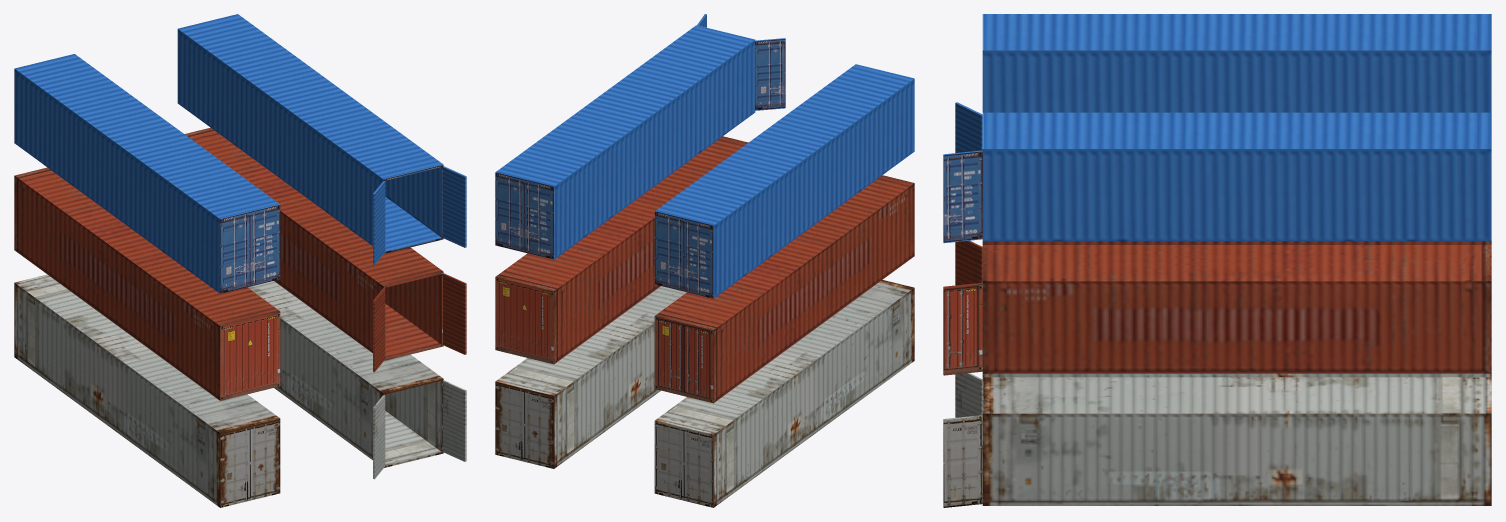
Rendered from ShippingContainersPack.fbx.
3 renders of one model, left to right at view 1: azimuth 30°, elevation 25°; view 2: azimuth 150°, elevation 25°; view 3: azimuth 270°, elevation 25°, orthographic. The views are drawn at different scales.
Parts seen in each view (by area): view 1: Cube.005, Cube.009, Cube, Cube.004, Cube.006, Cube.003, Cube.001, Cube.007, Cube.010, Cube.002, Cube.008, Cube.011; view 2: Cube.005, Cube.009, Cube.004, Cube, Cube.006, Cube.003, Cube.011; view 3: Cube.009, Cube.003, Cube.006, Cube.005, Cube.010, Cube.001, Cube.007, Cube, Cube.004, Cube.011, Cube.002, Cube.008.
Boxes of the visible parts, x1,y1,x2,y2 form: Cube.005: (14, 54, 280, 293); Cube.009: (177, 14, 443, 253); Cube: (14, 274, 280, 507); Cube.004: (14, 167, 280, 400); Cube.006: (184, 127, 443, 360); Cube.003: (248, 281, 443, 467); Cube.001: (442, 380, 466, 461); Cube.007: (442, 273, 466, 354); Cube.010: (442, 166, 466, 247); Cube.002: (373, 395, 385, 479); Cube.008: (373, 288, 385, 372); Cube.011: (373, 181, 385, 264); Cube.005: (654, 64, 914, 298); Cube.009: (495, 25, 755, 259); Cube.004: (654, 175, 914, 403); Cube: (654, 280, 914, 507); Cube.006: (495, 136, 748, 364); Cube.003: (495, 286, 686, 468); Cube.011: (755, 38, 785, 110); Cube.009: (982, 112, 1491, 241); Cube.003: (982, 377, 1491, 505); Cube.006: (982, 245, 1491, 373); Cube.005: (982, 14, 1491, 112); Cube.010: (943, 150, 982, 243); Cube.001: (943, 415, 982, 507); Cube.007: (943, 283, 982, 375); Cube: (982, 373, 1491, 377); Cube.004: (982, 241, 1491, 244); Cube.011: (955, 102, 982, 152); Cube.002: (955, 373, 982, 417); Cube.008: (955, 240, 982, 285).
Size of the model in its own units: 2929 by 3508 by 4883.
